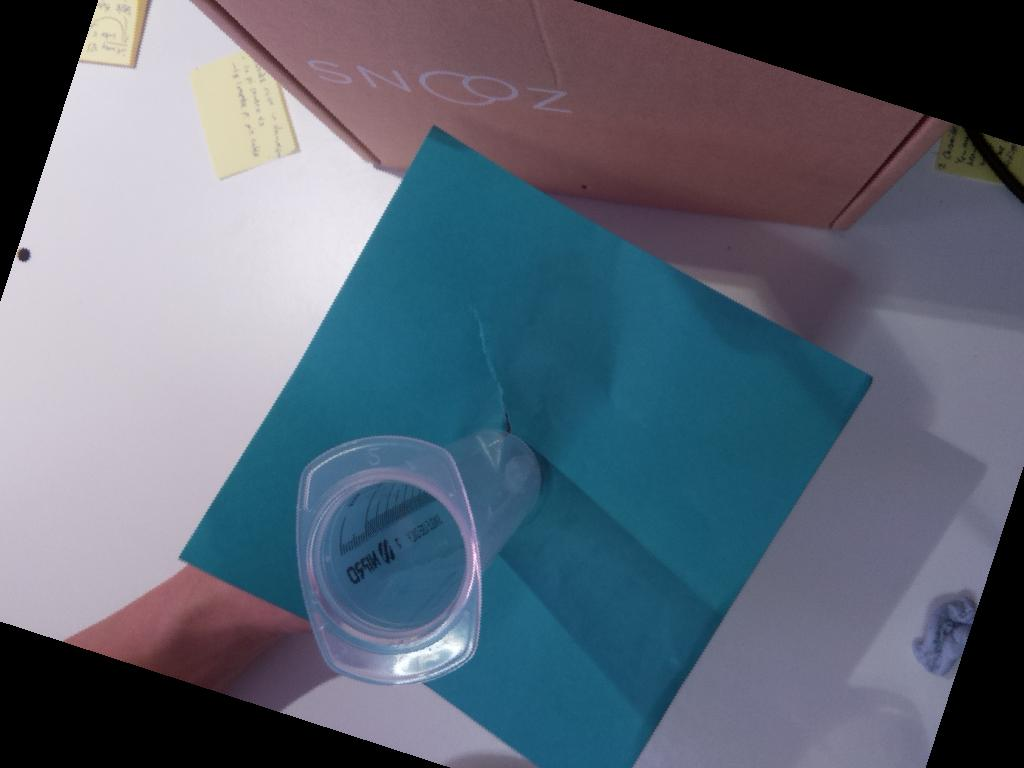clean: (292, 434, 487, 687)
